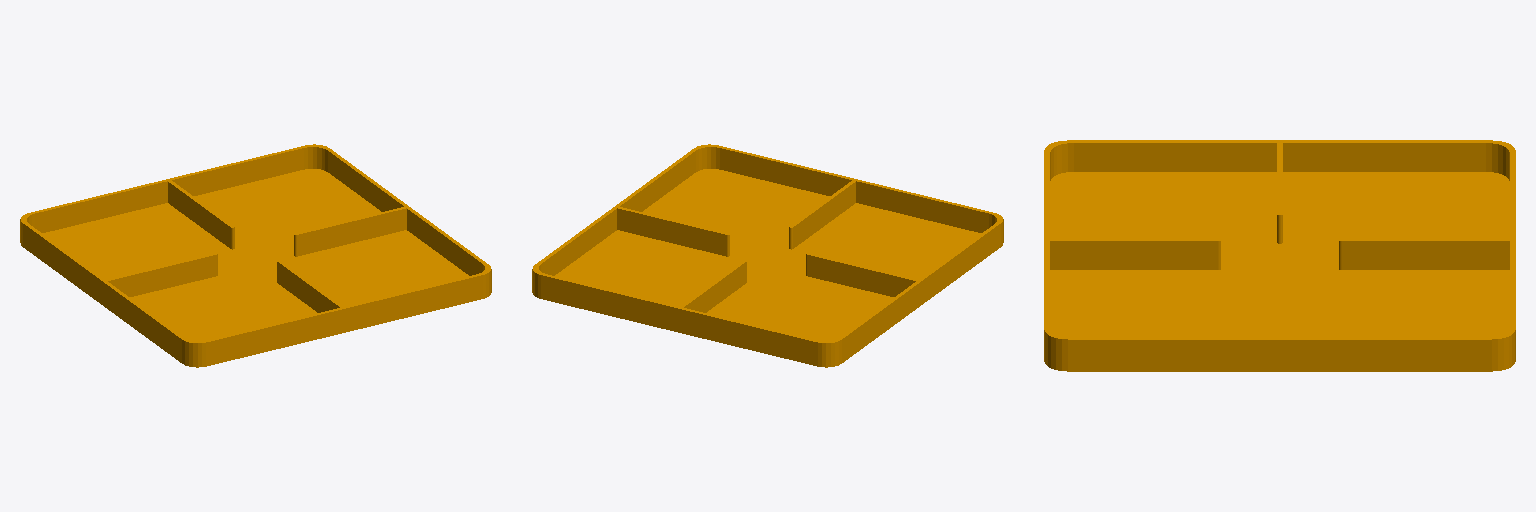
The robot description file, URDF, robot "arena":
<?xml version="1.0" encoding="utf-8"?>
<!-- =================================================================================== -->
<!-- |    This document was autogenerated by xacro from arena.urdf.xacro               | -->
<!-- |    EDITING THIS FILE BY HAND IS NOT RECOMMENDED                                 | -->
<!-- =================================================================================== -->
<robot name="arena">
  <link name="arena_link">
    <collision>
      <origin rpy="0 0 -4.71238898038" xyz="0 0 0"/>
      <!-- <origin xyz="0 0 0" rpy="0 0 0" /> -->
      <geometry>
        <mesh filename="package://hero_gazebo/worlds/models/arena_5/arena.obj" scale="1 1 1"/>
      </geometry>
    </collision>
    <visual>
      <origin rpy="0 0 -4.71238898038" xyz="0 0 0"/>
      <!-- <origin xyz="0 0 0" rpy="0 0 0" /> -->
      <geometry>
        <mesh filename="package://hero_gazebo/worlds/models/arena_5/arena.obj" scale="1 1 1"/>
      </geometry>
    </visual>
    <inertial>
      <origin rpy="0 0 0" xyz="0 0 0"/>
      <mass value="100"/>
      <inertia ixx="134.083333333" ixy="0" ixz="0" iyy="134.083333333" iyz="0" izz="134.083333333"/>
    </inertial>
  </link>
  <gazebo reference="arena_link">
    <static>true</static>
    <gravity>false</gravity>
    <selfCollide>false</selfCollide>
  </gazebo>
</robot>

--- Render facts (derived) ---
Views: 3 orthographic renders of the robot side by side, from view 1: azimuth 30°, elevation 25°; view 2: azimuth 150°, elevation 25°; view 3: azimuth 270°, elevation 25°.
Model arena with 1 links and 0 joints (none), rooted at arena_link, posed all joints at 0.
Links seen in each view (by area): view 1: arena_link; view 2: arena_link; view 3: arena_link.
Link boxes in pixels (<box>): arena_link: <box>20,144,491,367</box>; arena_link: <box>532,144,1003,367</box>; arena_link: <box>1044,140,1515,371</box>.
Bounding box of the posed robot: 4 × 4 × 0.3 m (x, y, z).
1 mesh visuals loaded from 1 distinct referenced files (1 OBJ).
